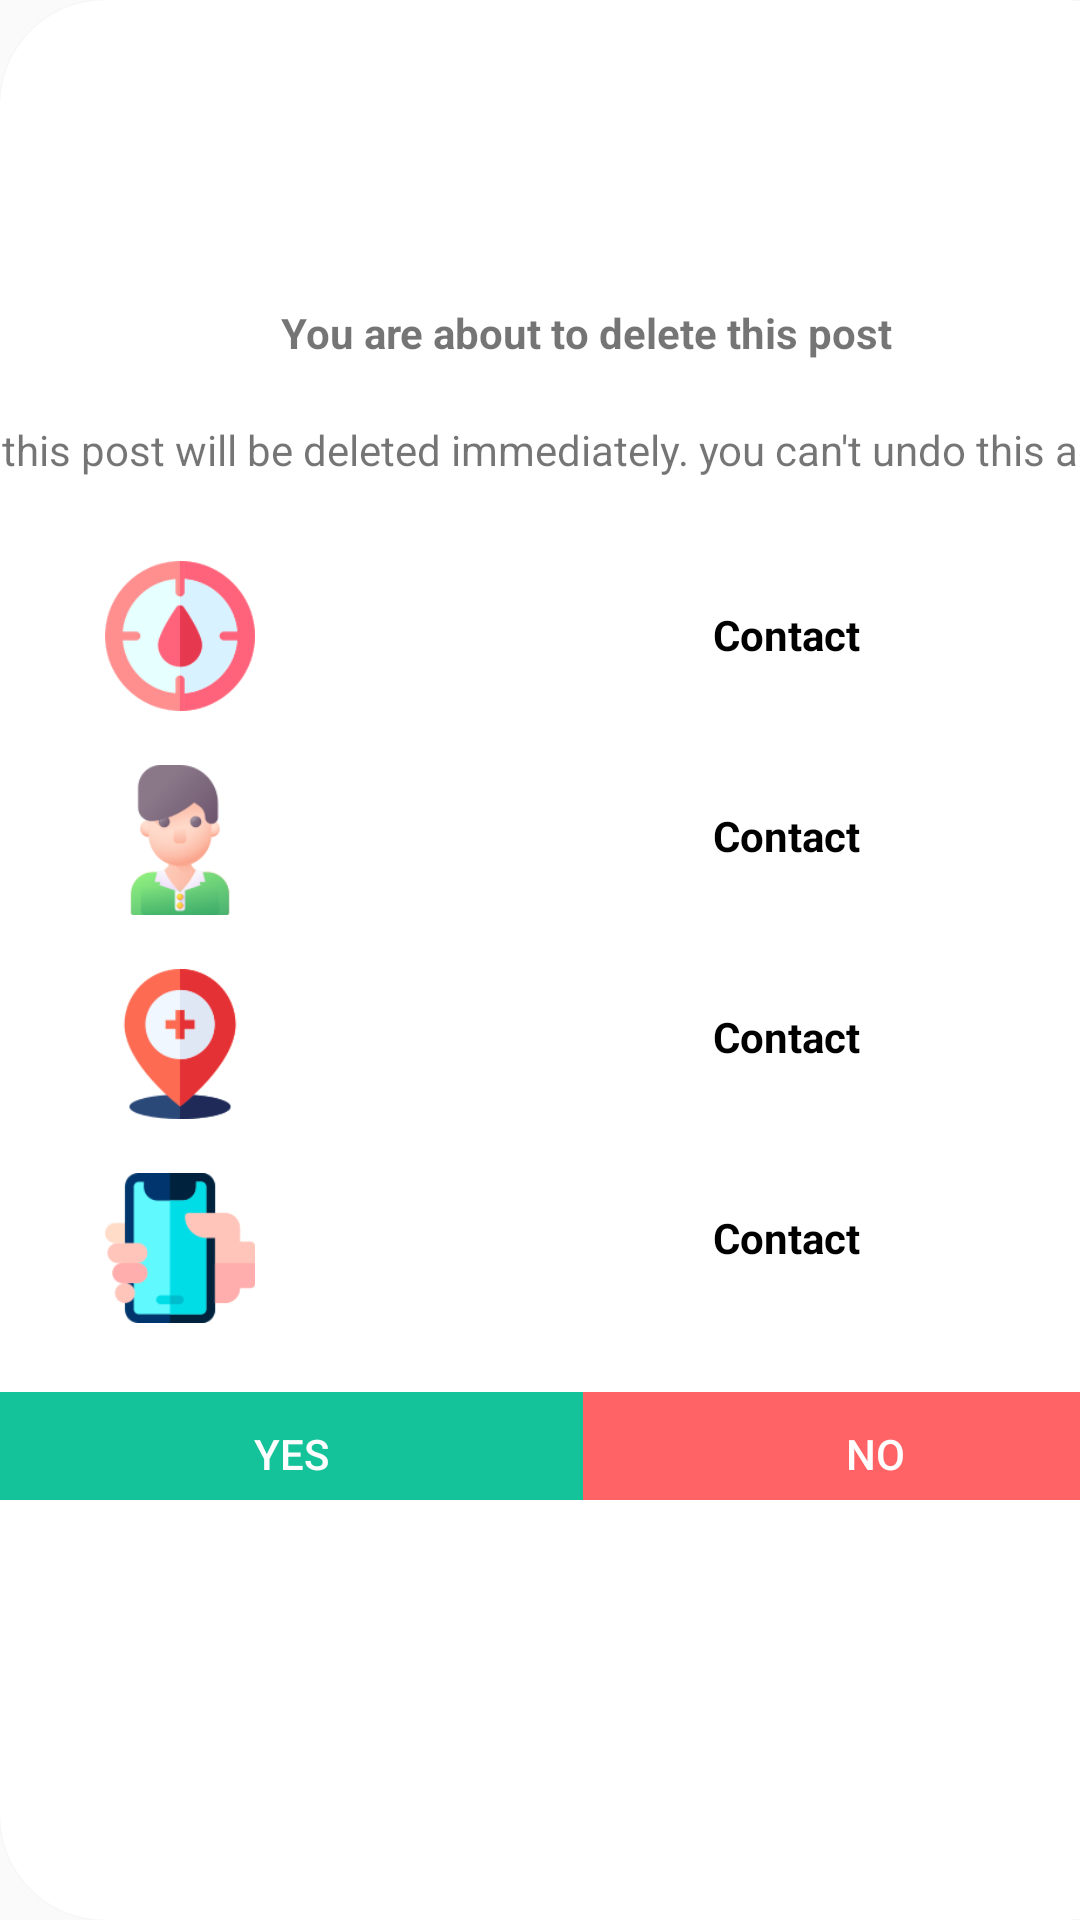

Named icons in this screenshot (1080 x 1920) and their centers, (x=x, y=y):
bloodtype: (x=180, y=636)
smartphone: (x=180, y=1248)
userdetails: (x=180, y=840)
